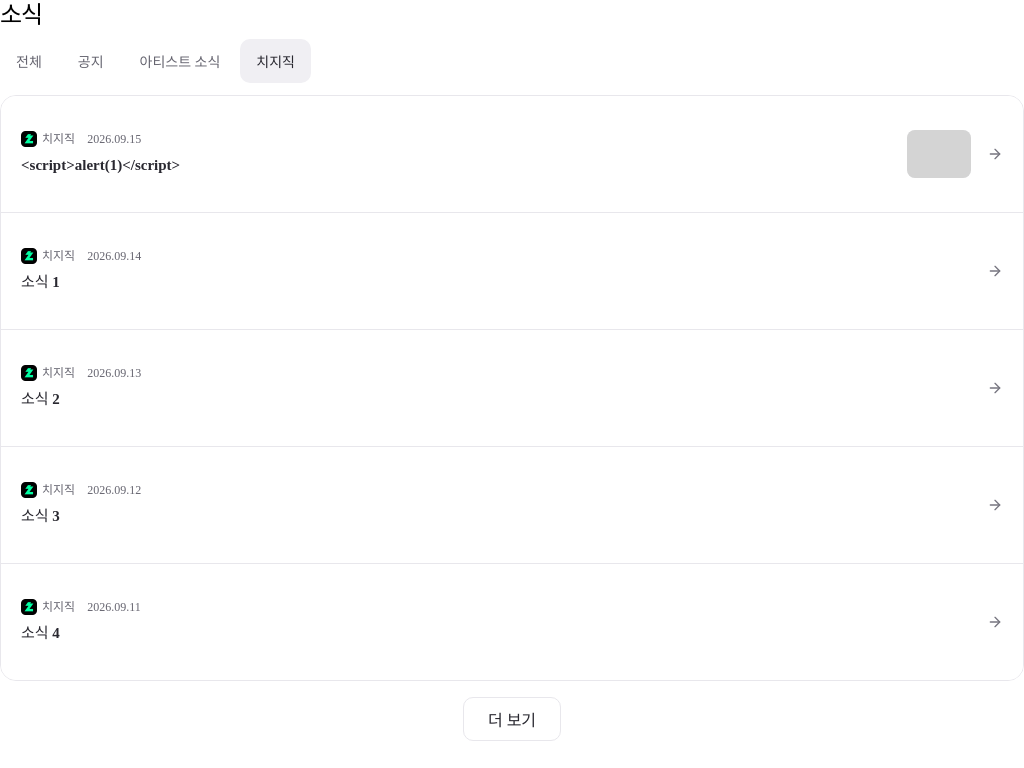
creator news › loads real next cursors, deduplicates pages, retains rows on failure and stops at the end
This screenshot has width=1024, height=768.
Click the button "더 보기" at (512, 719), box [463,697,561,741]
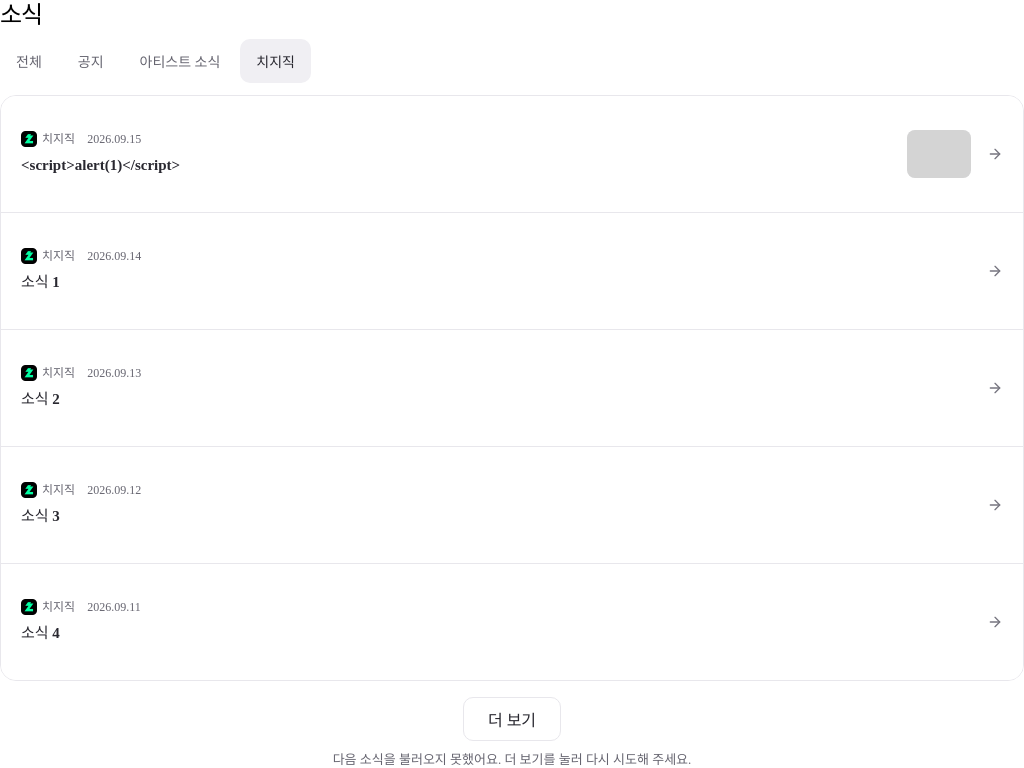
Expected: the number of list items is 5, [1,96,1023,212]; [1,212,1023,329]; [1,329,1023,446]; [1,446,1023,563]; [1,563,1023,680]
Result: the text "다음 소식을 불러오지 못했어요. 더 보기를 눌러 다시 시도해 주세요." is shown at [333,749,691,767]
Click the button "더 보기" at (512, 719), box [463,697,561,741]
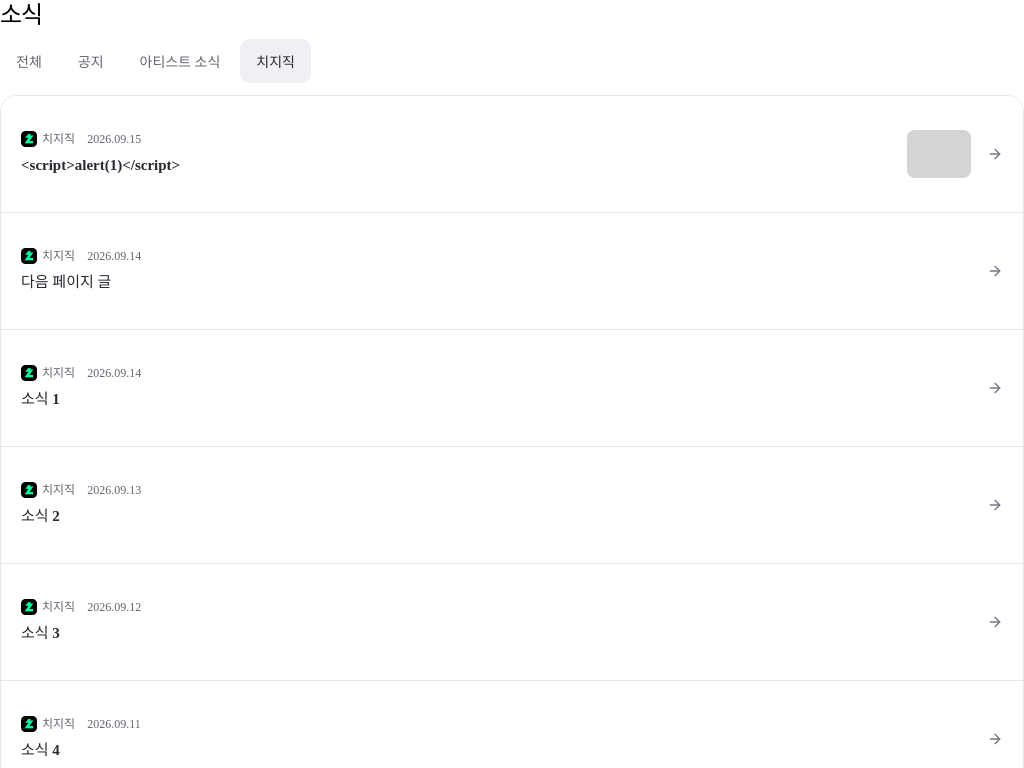
Result: the text "다음 페이지 글" is shown at [21,274,111,290]
Result: the button "더 보기" is gone
